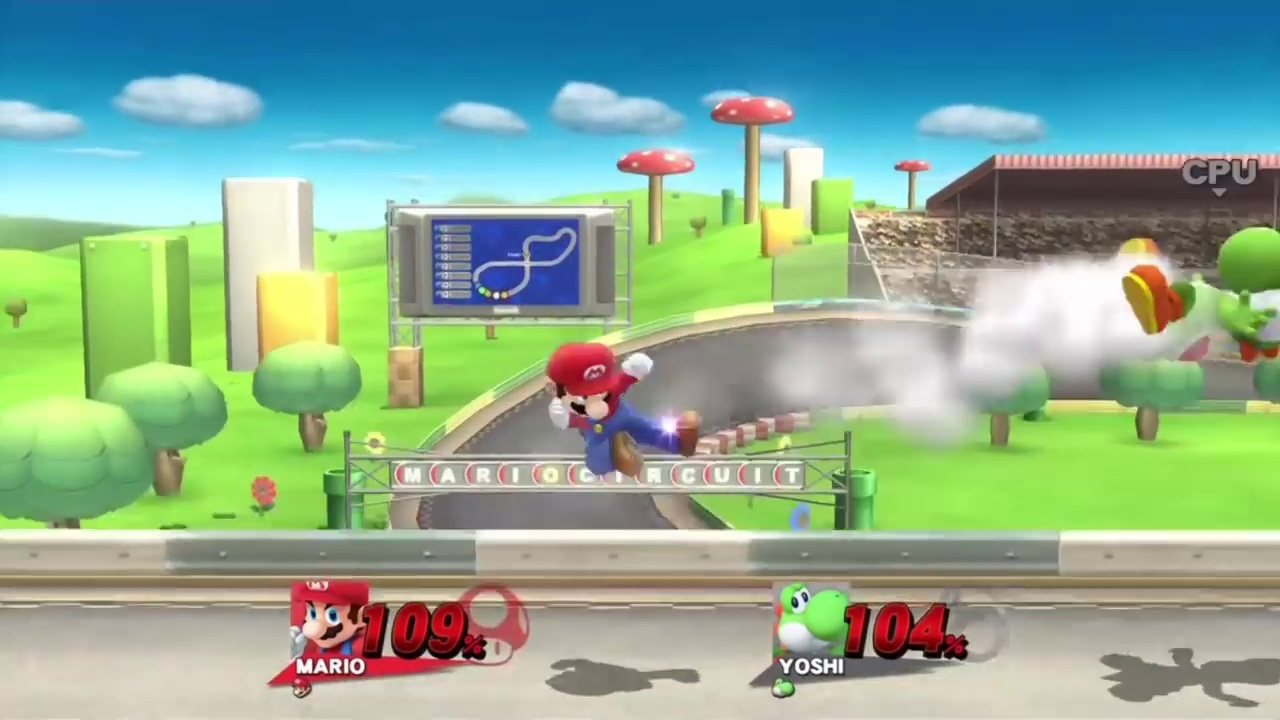Mario: (544, 341, 701, 475)
